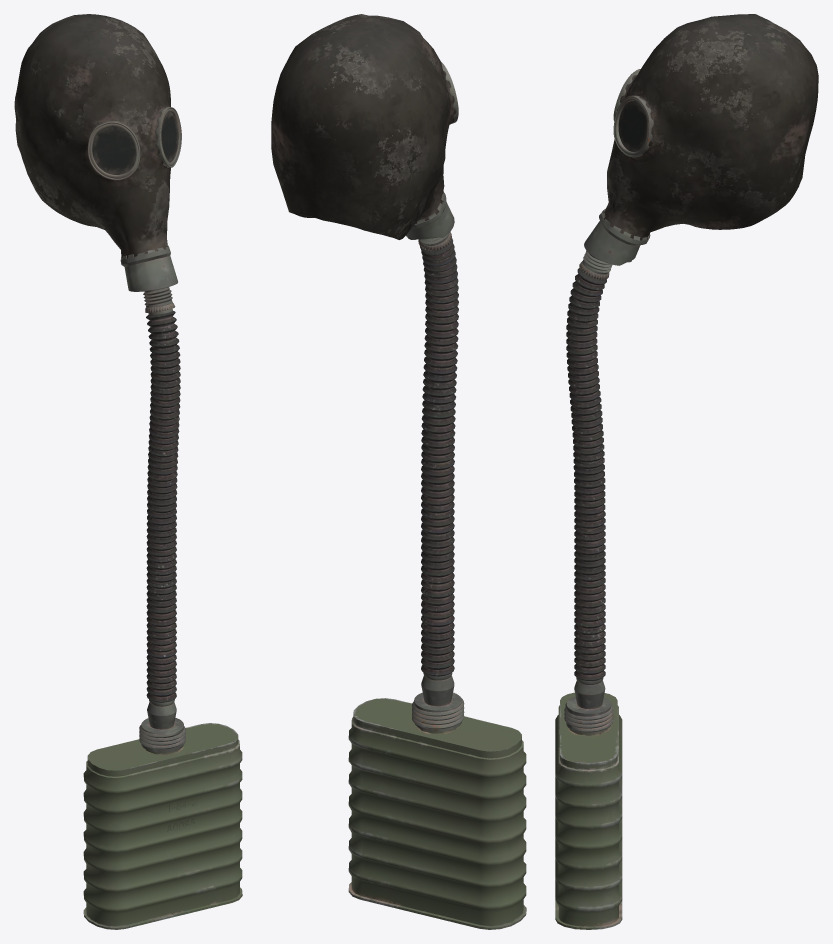
File: old_gas_mask.gltf
The picture shows the model from 3 angles, left to right: view 1: azimuth 30°, elevation 25°; view 2: azimuth 150°, elevation 25°; view 3: azimuth 270°, elevation 25°; orthographic projection. The views are drawn at different scales.
Visible parts, largest first — view 1: old_gas_mask; view 2: old_gas_mask; view 3: old_gas_mask.
Boxes of the visible parts, x1,y1,x2,y2 form: old_gas_mask: (14,14,242,929); old_gas_mask: (271,14,526,929); old_gas_mask: (555,14,818,929).
Bounding box in the file's own units: 0.2105 × 1.13 × 0.3087.
1 material, 1 textured.
